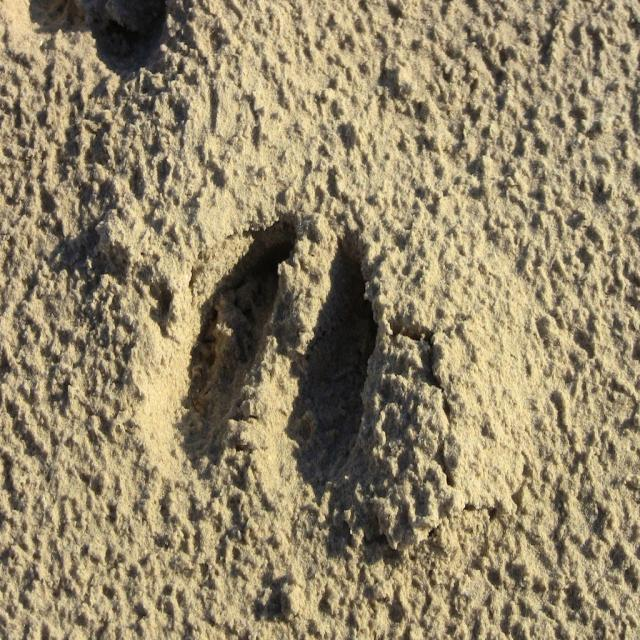deer: (169, 214, 374, 476)
